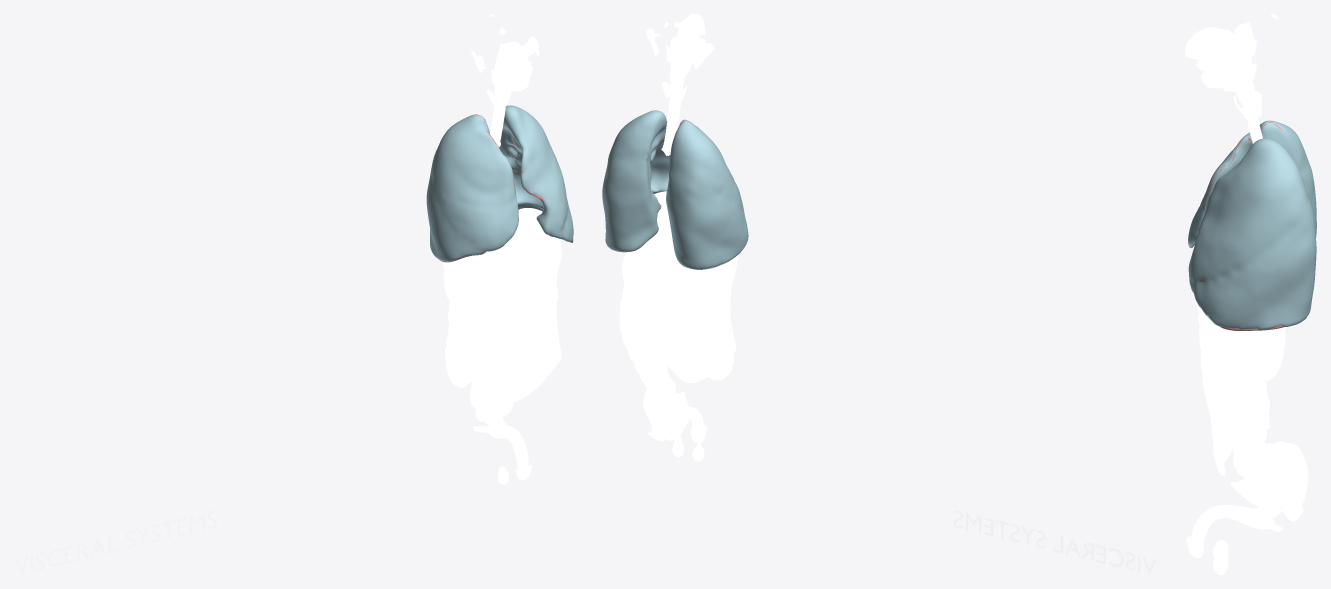
File: 8:-visceral-systems.glb
3 views of the same model, side by side, from view 1: azimuth 30°, elevation 25°; view 2: azimuth 150°, elevation 25°; view 3: azimuth 270°, elevation 25° (orthographic). The views are drawn at different scales.
Visible parts, largest first — view 1: Pleura, Greater omentum, Liver, Visceral systems.g, Ascending colon, Corpus cavernosum of penis, Stomach; view 2: Pleura, Greater omentum, Ascending colon, Descending colon, Visceral systems.g, Sigmoid colon, Liver, Kidney.l, Kidney.r; view 3: Pleura, Greater omentum, Descending colon, Sigmoid colon, Corpus cavernosum of penis, Mucosa of nasal cavity, Urinary bladder, Kidney.l, Gingiva, Mesocolic taenia, Nasopharynx, Stomach (+11 smaller).
Part boxes in pixels (<box>): Pleura: <box>426,105,573,261</box>; Greater omentum: <box>454,269,561,403</box>; Liver: <box>442,208,557,302</box>; Visceral systems.g: <box>14,510,217,574</box>; Ascending colon: <box>445,301,470,387</box>; Corpus cavernosum of penis: <box>472,419,528,468</box>; Stomach: <box>509,238,561,289</box>; Pleura: <box>602,110,748,269</box>; Greater omentum: <box>638,276,733,383</box>; Ascending colon: <box>703,292,735,380</box>; Descending colon: <box>620,284,675,398</box>; Visceral systems.g: <box>953,510,1156,574</box>; Sigmoid colon: <box>643,374,675,441</box>; Liver: <box>654,191,738,296</box>; Kidney.l: <box>622,250,652,297</box>; Kidney.r: <box>686,271,711,318</box>; Pleura: <box>1188,120,1316,329</box>; Greater omentum: <box>1198,329,1242,475</box>; Descending colon: <box>1234,341,1286,483</box>; Sigmoid colon: <box>1280,443,1308,521</box>; Corpus cavernosum of penis: <box>1191,505,1282,546</box>; Mucosa of nasal cavity: <box>1185,27,1228,60</box>; Urinary bladder: <box>1230,478,1286,507</box>; Kidney.l: <box>1259,327,1285,380</box>; Gingiva: <box>1196,57,1236,88</box>; Mesocolic taenia: <box>1238,344,1284,473</box>; Nasopharynx: <box>1228,30,1252,61</box>; Stomach: <box>1198,311,1250,345</box>.
Bounding box in the file's own units: 1.13 × 0.8931 × 0.1926.
